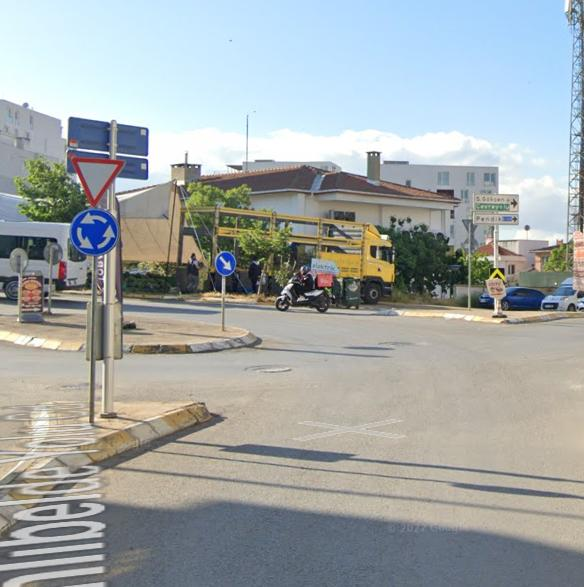crossroads: (69, 207, 120, 259)
